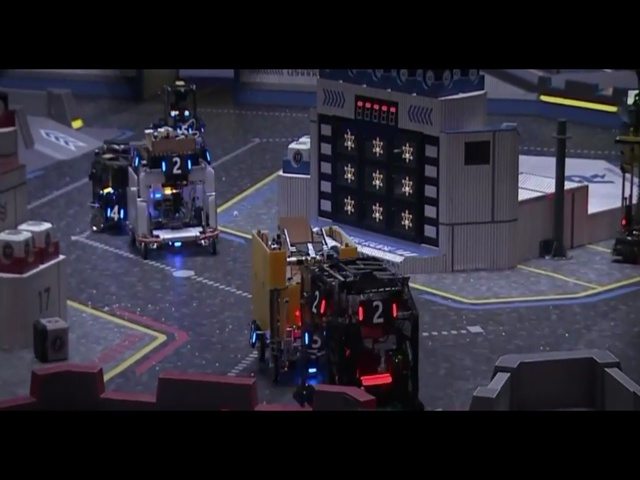bluePlate: (159, 156, 193, 177), (304, 326, 327, 352), (105, 203, 126, 224), (129, 147, 139, 171)
redPlate: (357, 297, 398, 326), (305, 284, 329, 316)
